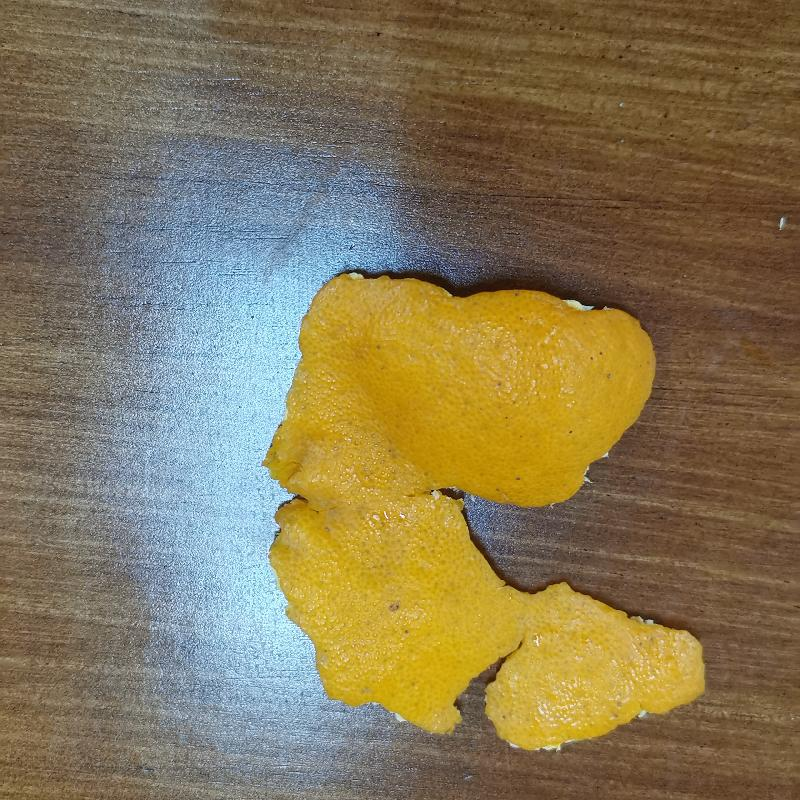orange: (263, 265, 708, 749)
